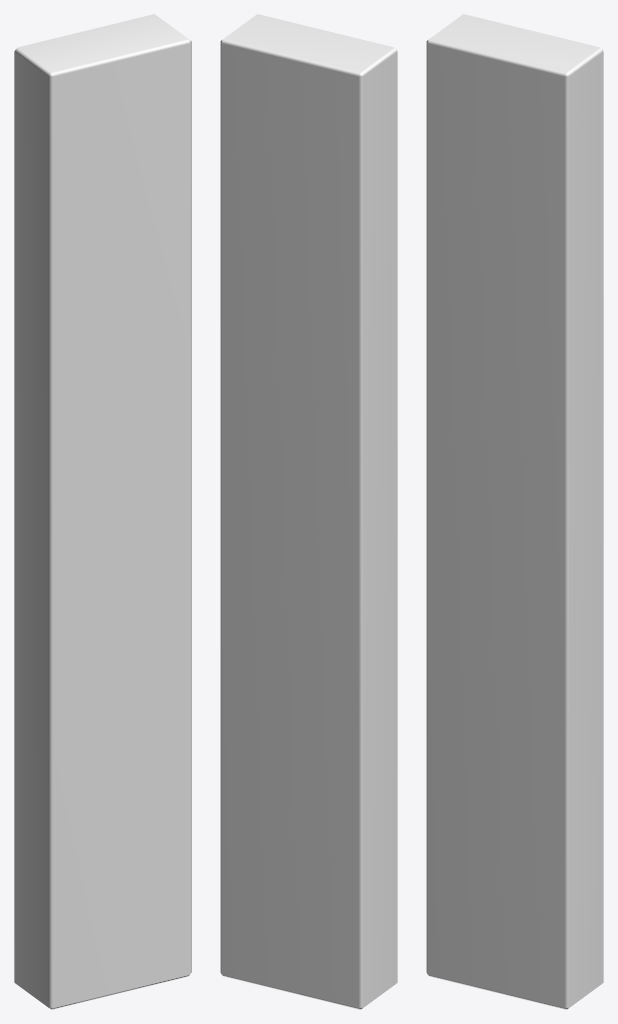
File: lab_siitng_pillar1.fbx
3 views of the same model, side by side, from view 1: azimuth 30°, elevation 25°; view 2: azimuth 150°, elevation 25°; view 3: azimuth 330°, elevation 25° (orthographic).
Parts seen in each view (by area): view 1: lab_siitng_pillar1; view 2: lab_siitng_pillar1; view 3: lab_siitng_pillar1.
Boxes of the visible parts, bbox=[...] form: lab_siitng_pillar1: bbox=[14, 14, 191, 1009]; lab_siitng_pillar1: bbox=[220, 14, 397, 1009]; lab_siitng_pillar1: bbox=[426, 14, 603, 1009].
Bounding box in the file's own units: 18.93 × 118 × 8.6.
1 material, 1 textured.
